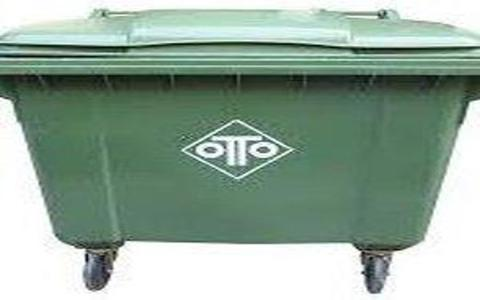Proper garbage: (10, 1, 474, 291)
